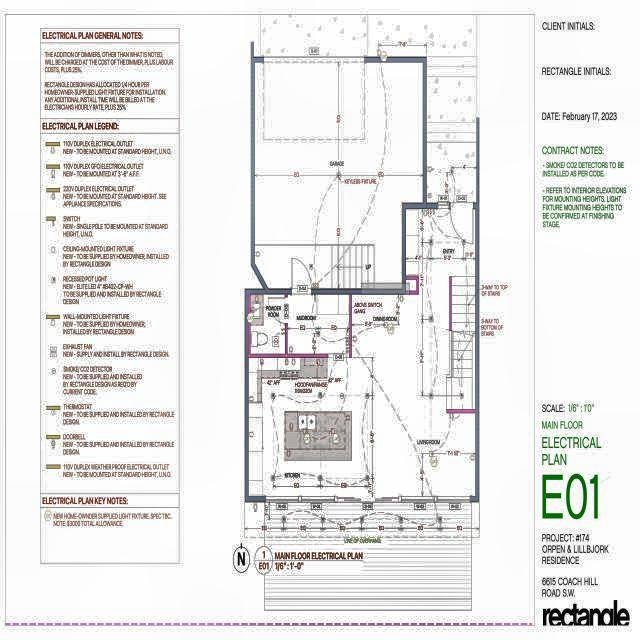room: (249, 209, 475, 497), (255, 63, 423, 289), (287, 294, 350, 354), (250, 294, 285, 354)
